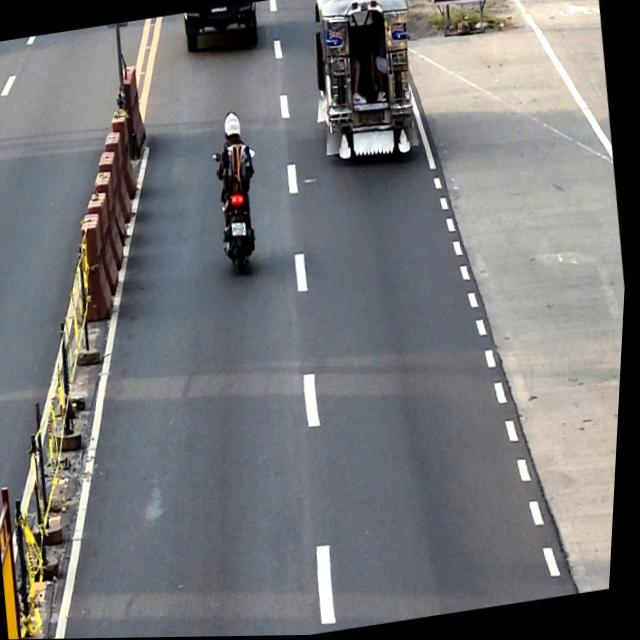Car: (182, 3, 260, 54)
Jeep: (303, 0, 429, 173)
License-Plate: (360, 110, 383, 127), (233, 222, 250, 237)
Motorcycle: (208, 147, 274, 277)
